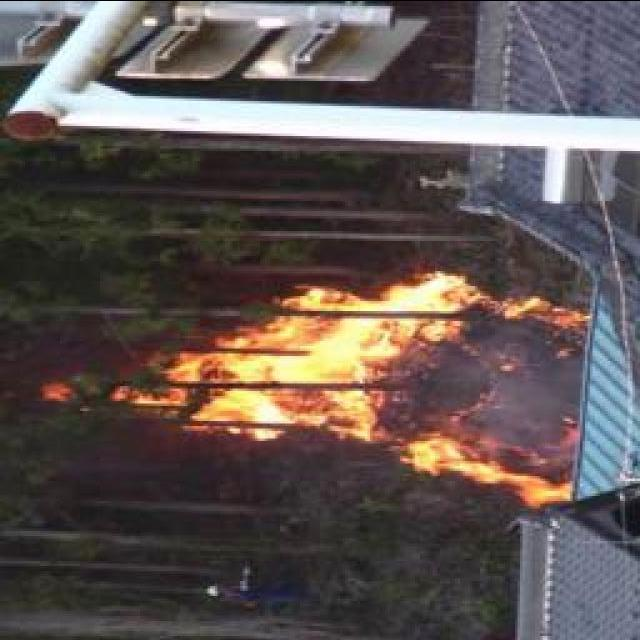Fire: (154, 273, 578, 512)
